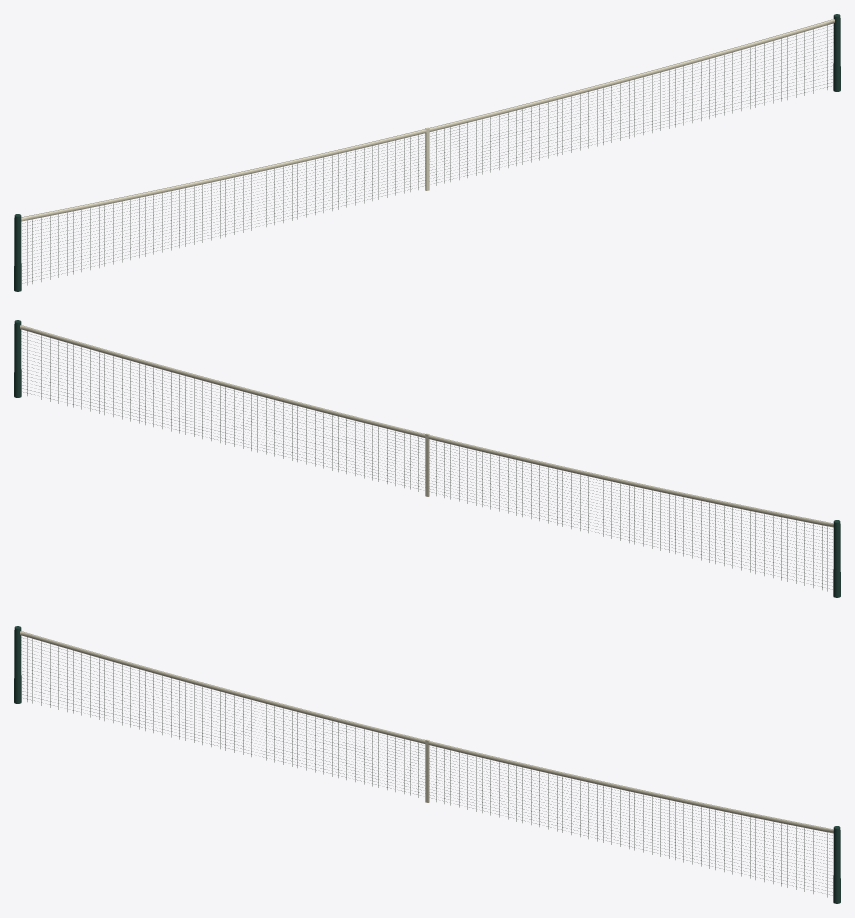
Rendered from net.glb.
The picture shows the model from 3 angles, top to bottom: view 1: azimuth 30°, elevation 25°; view 2: azimuth 150°, elevation 25°; view 3: azimuth 330°, elevation 25°; orthographic projection.
Visible parts, largest first — view 1: Net woven mesh, Top tape / center sag, Net post -6.4, Net post 6.4; view 2: Net woven mesh, Top tape / center sag, Net post -6.4, Net post 6.4; view 3: Net woven mesh, Top tape / center sag, Net post 6.4, Net post -6.4.
Part boxes in pixels (bbox=[...]): Net woven mesh: bbox=[22, 25, 833, 285]; Top tape / center sag: bbox=[21, 19, 834, 221]; Net post -6.4: bbox=[14, 214, 21, 291]; Net post 6.4: bbox=[833, 14, 840, 91]; Net woven mesh: bbox=[21, 331, 832, 591]; Top tape / center sag: bbox=[20, 325, 833, 527]; Net post -6.4: bbox=[833, 520, 840, 597]; Net post 6.4: bbox=[14, 320, 21, 397]; Net woven mesh: bbox=[21, 637, 832, 897]; Top tape / center sag: bbox=[20, 631, 833, 833]; Net post 6.4: bbox=[833, 826, 840, 903]; Net post -6.4: bbox=[14, 626, 21, 703].
Size of the model in its own units: 12.9 by 1.12 by 0.104.
